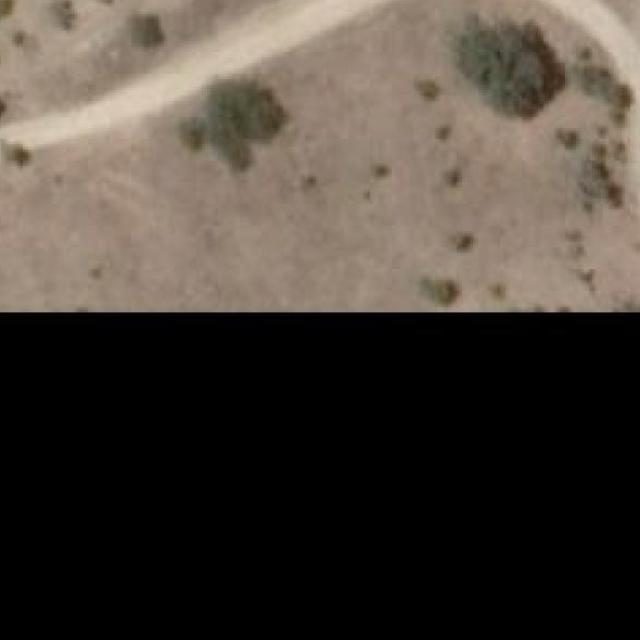Tree: (462, 23, 558, 115), (196, 79, 283, 166), (122, 11, 164, 52), (413, 269, 457, 308), (445, 226, 473, 256), (426, 120, 454, 146), (438, 160, 462, 190), (56, 0, 77, 31), (6, 144, 30, 166), (416, 79, 437, 101), (0, 0, 20, 23), (557, 131, 578, 148), (12, 27, 28, 47), (0, 98, 10, 117)
